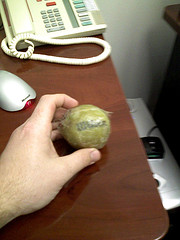tennis ball: (63, 104, 114, 150)
